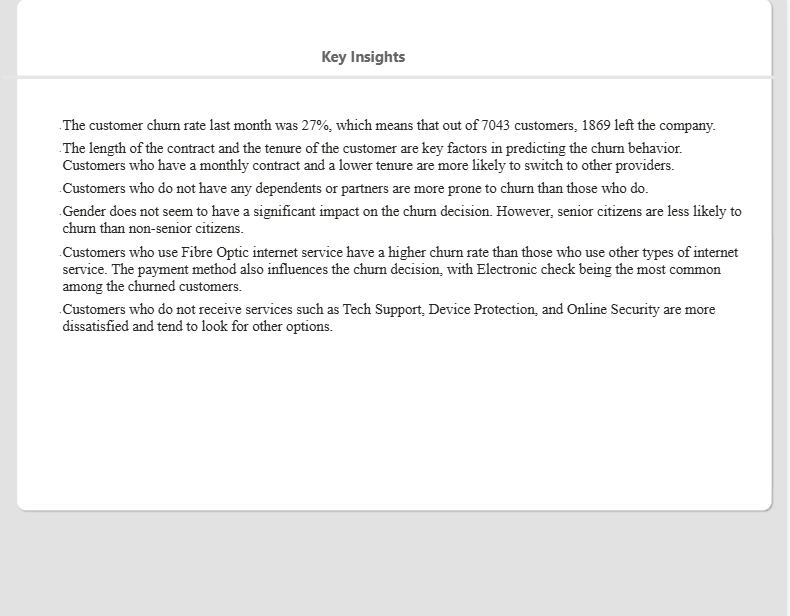

This screenshot's page, from the dashboard's own definition file:
{"tool":"powerbi","page":{"name":"Page 3","canvas":[2300,1820],"ordinal":2},"visuals":[{"type":"shape","box":[60,0,2205,1500],"z":0},{"type":"textbox","box":[180,345,2010,920],"z":1000},{"type":"textbox","box":[800,140,545,77.5],"z":2000},{"type":"shape","box":[25,102.5,2240,262.5],"z":3000}]}

Visuals, with their boxes in screenshot pixels (x1, y1, x2, y2), scaled from the page's 2300x1820 canvas onto the 790x616 screenshot:
shape: bbox(21, 0, 778, 508)
textbox: bbox(62, 117, 752, 428)
textbox: bbox(275, 47, 462, 74)
shape: bbox(9, 35, 778, 124)
